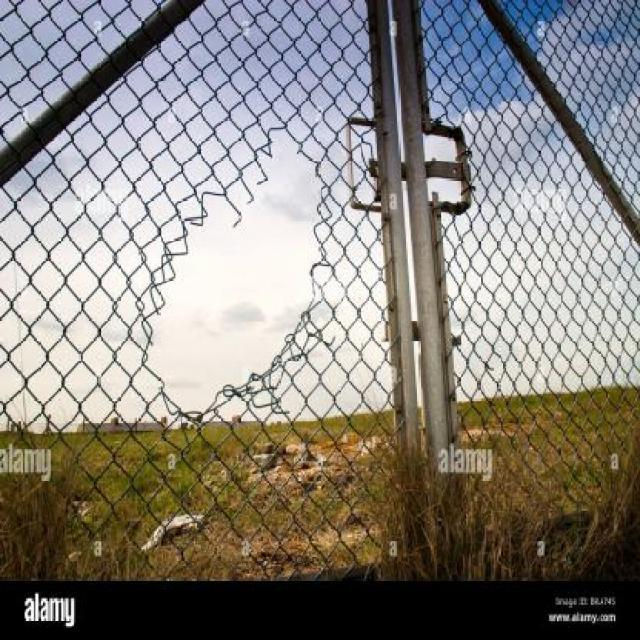fence line: (132, 133, 334, 441)
